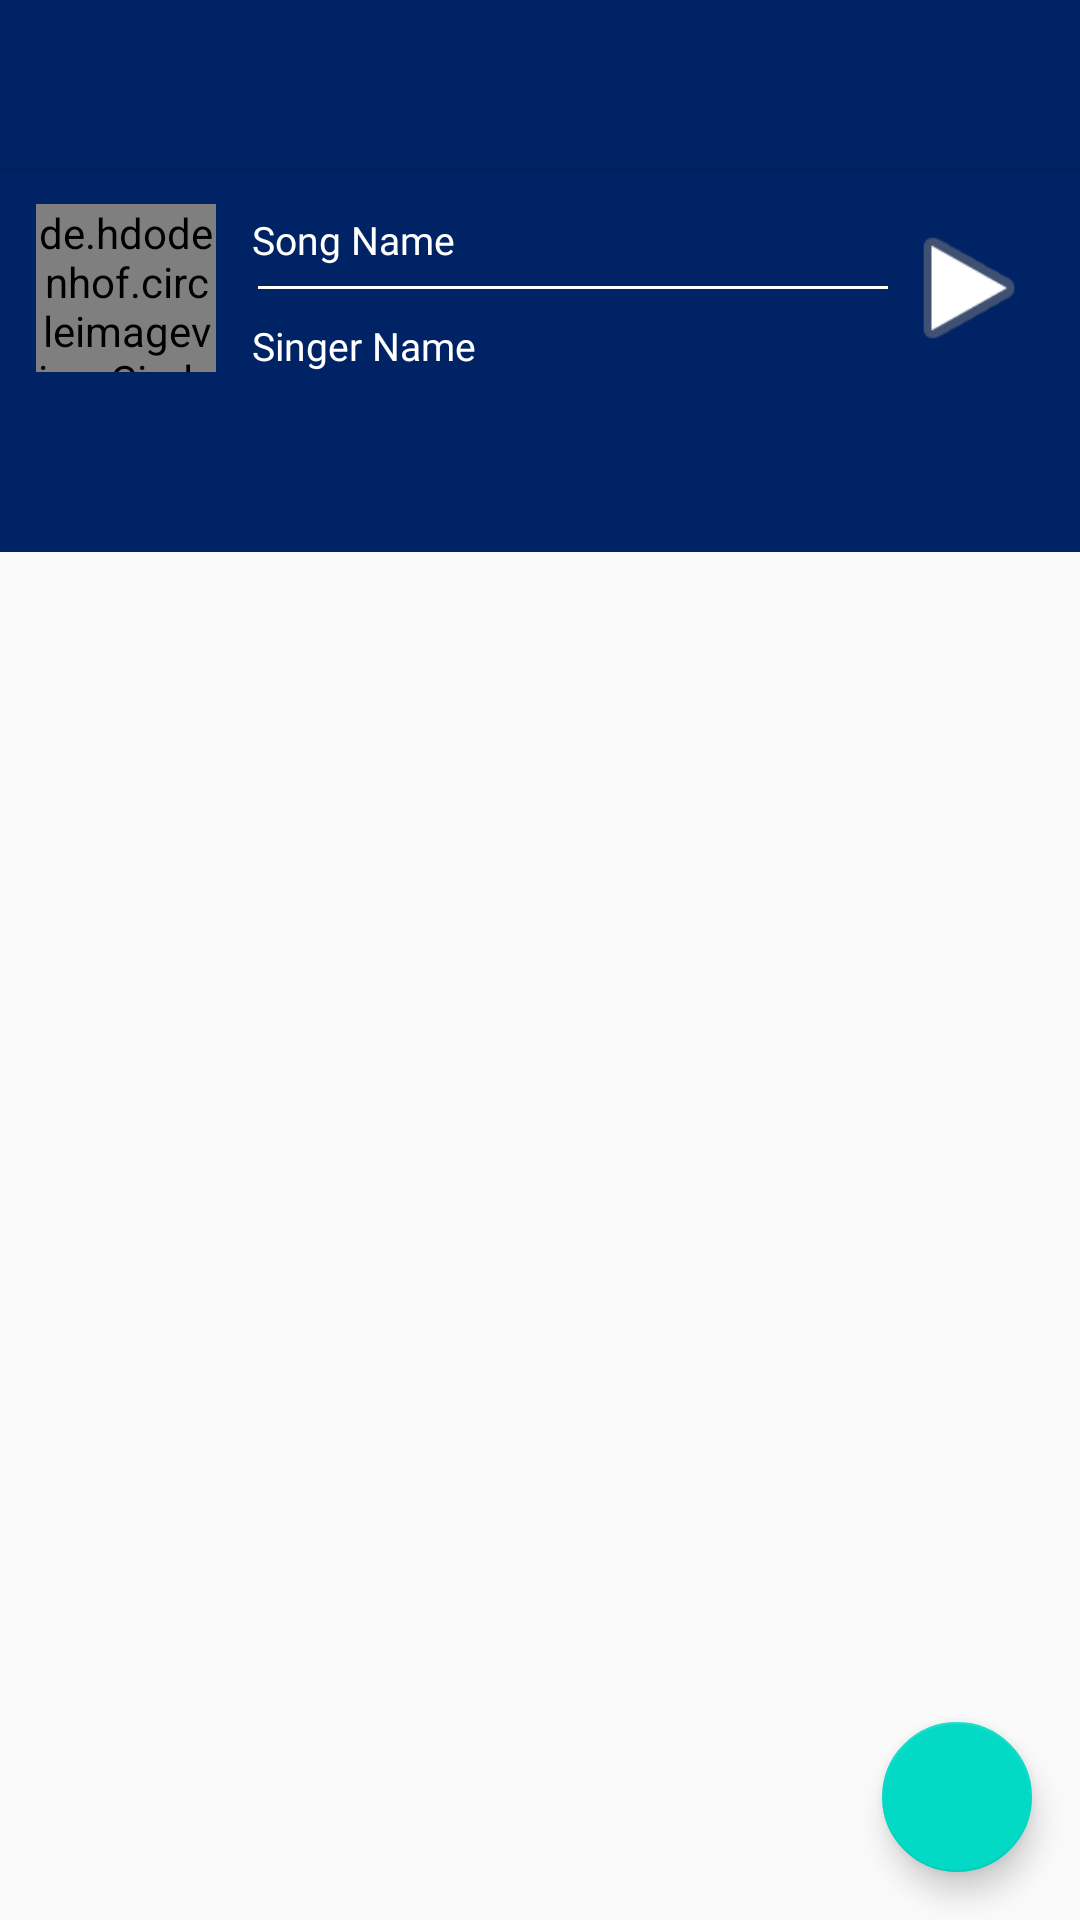

Icon bounding boxes for this 1080*1920 phone screenshot, format [left=x1, top=y1, right=x2, bottom=y2]:
play: [left=924, top=238, right=1014, bottom=338]
